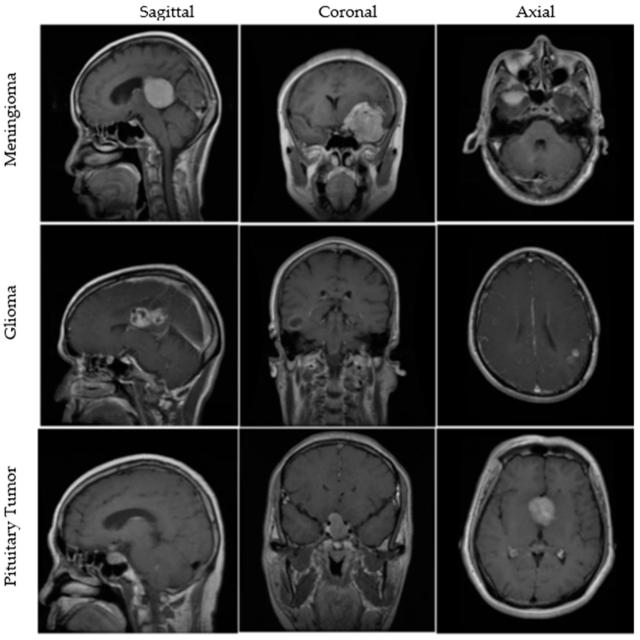Tumor: (322, 508, 362, 576), (100, 514, 168, 552), (347, 102, 388, 152), (127, 299, 173, 332), (144, 74, 178, 114), (530, 489, 558, 535), (501, 42, 536, 78), (498, 84, 530, 109)
